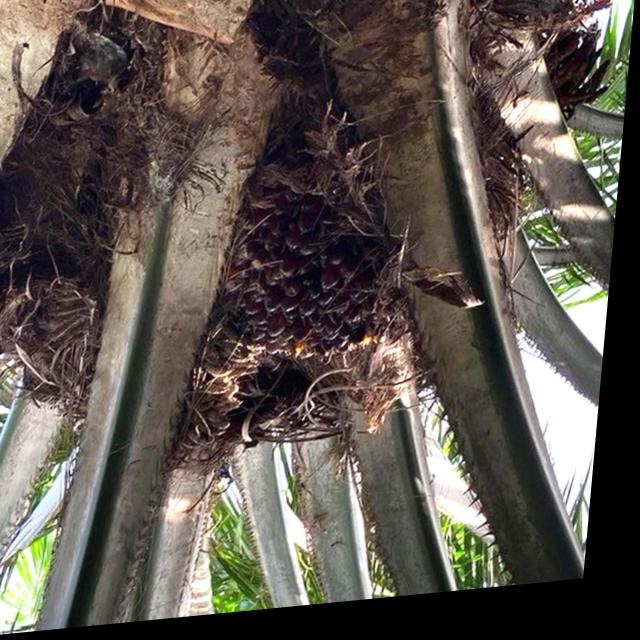ripe: (202, 99, 451, 391)
